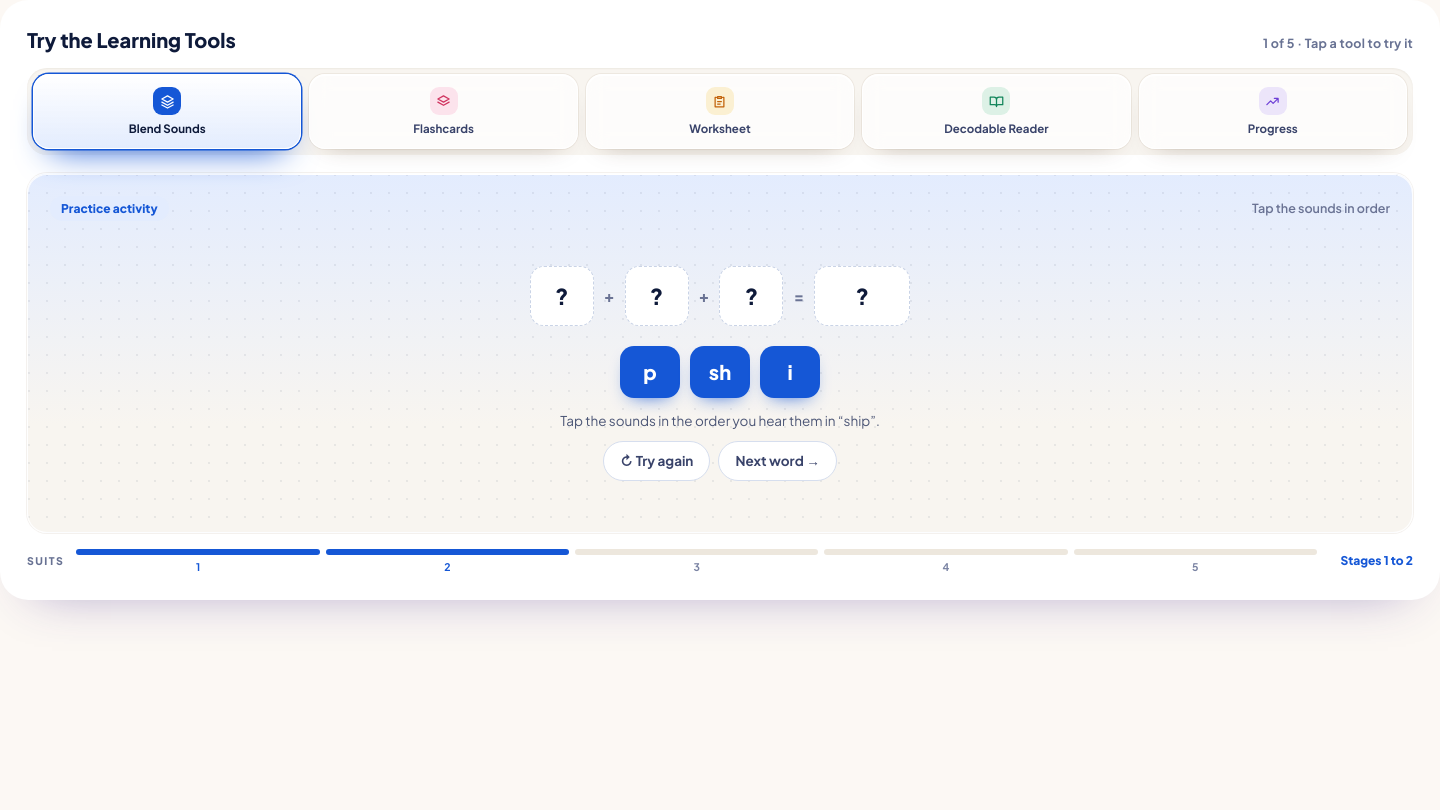
Scenario: LearningTools › keeps a tool's progress when switching away and back
Click the tab "Progress" at (1273, 111), box [1139,74,1407,149]
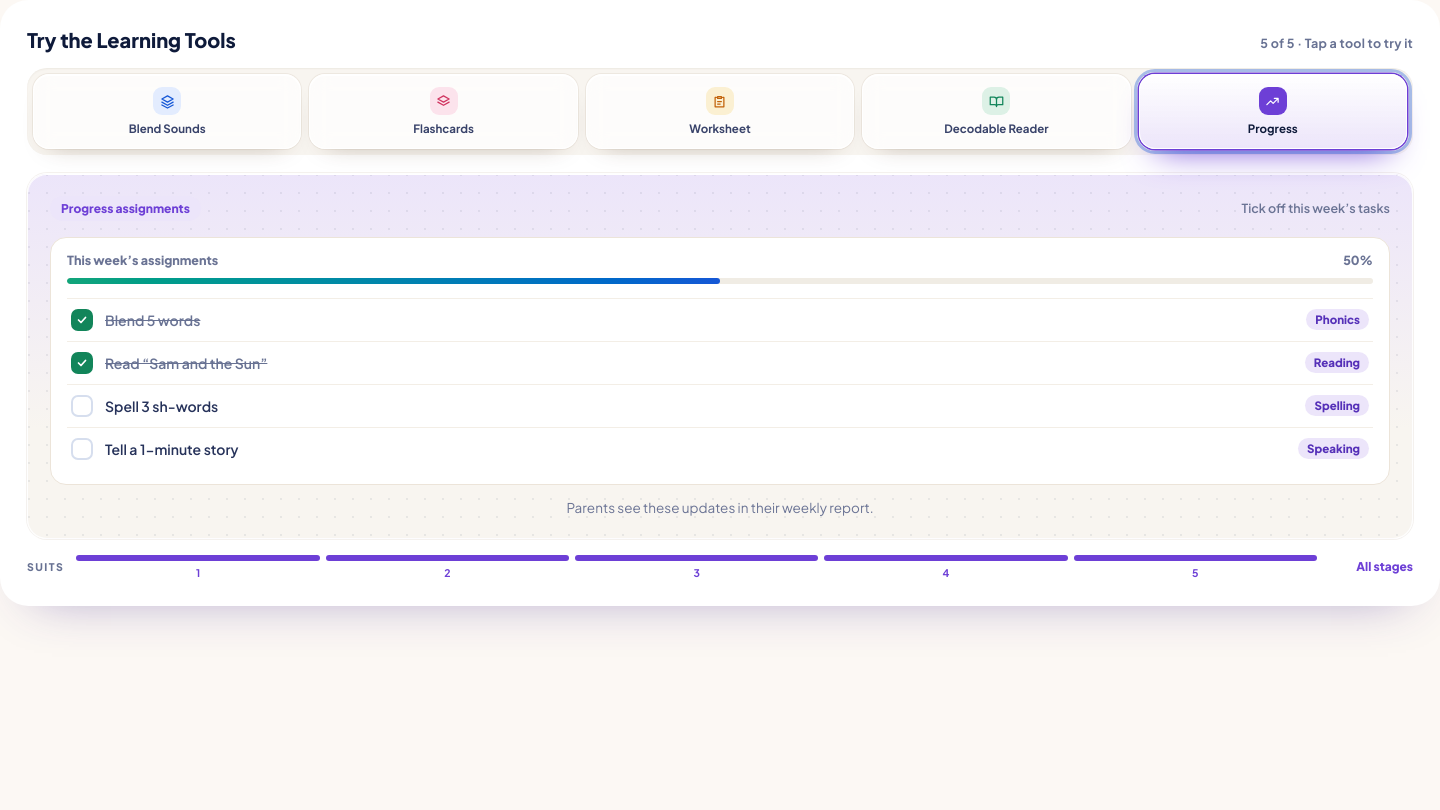
Click the button "Spell 3 sh-words Spelling" at (162, 406), box [67,384,1373,427]
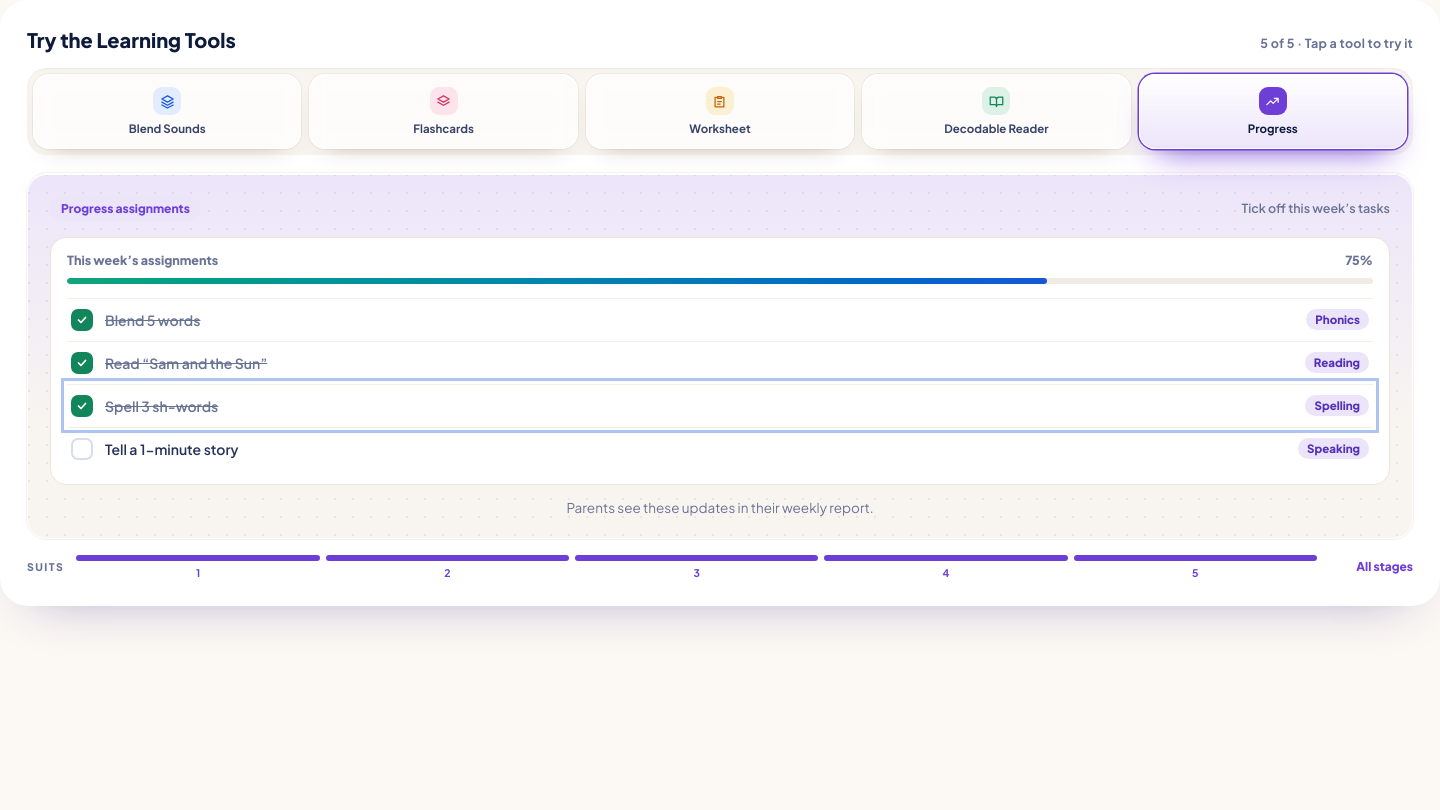
Click the tab "Blend Sounds" at (167, 111), box [33,74,301,149]
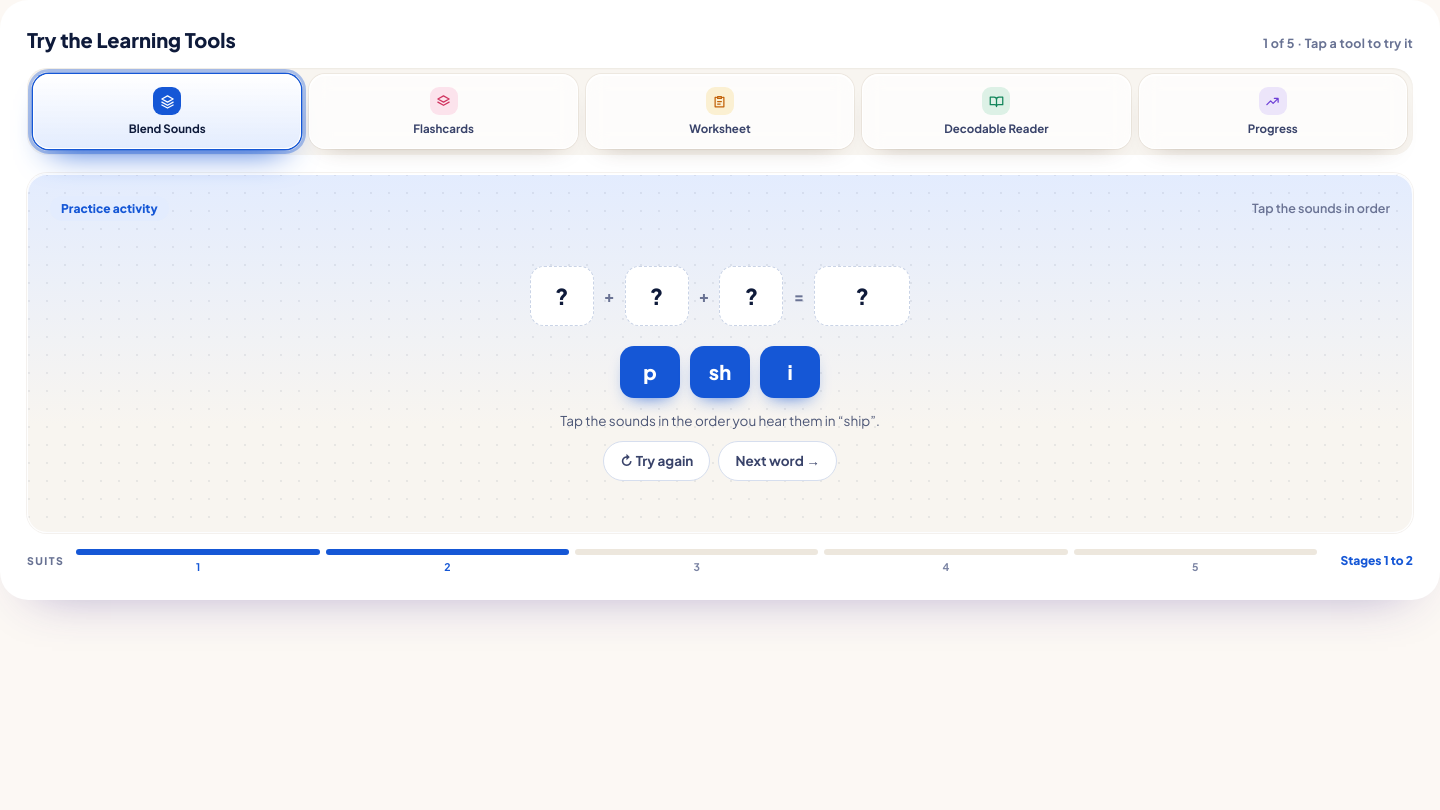
Click the tab "Progress" at (1273, 111), box [1139,74,1407,149]
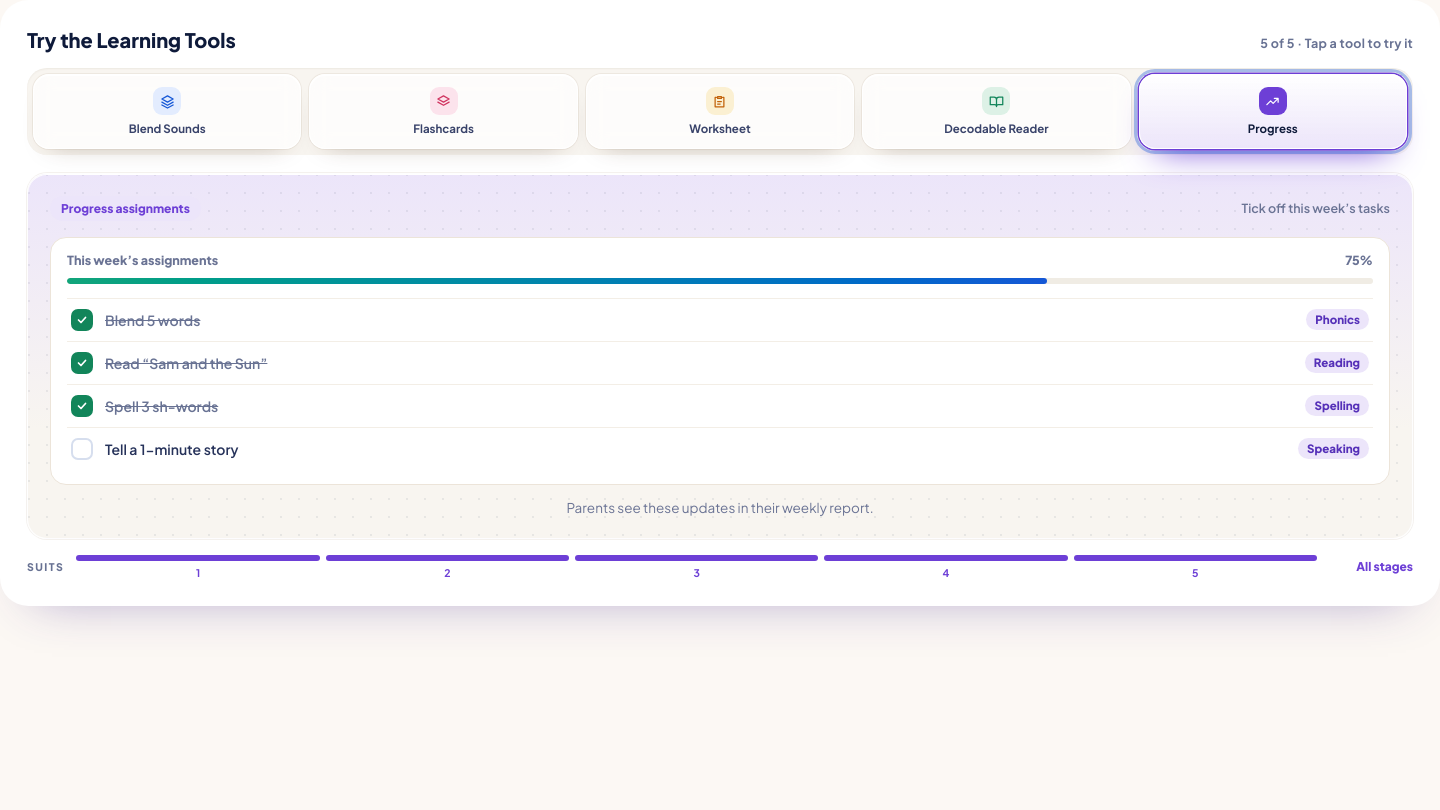
Expected: the text "75%" is shown, [1345,252,1373,268]
